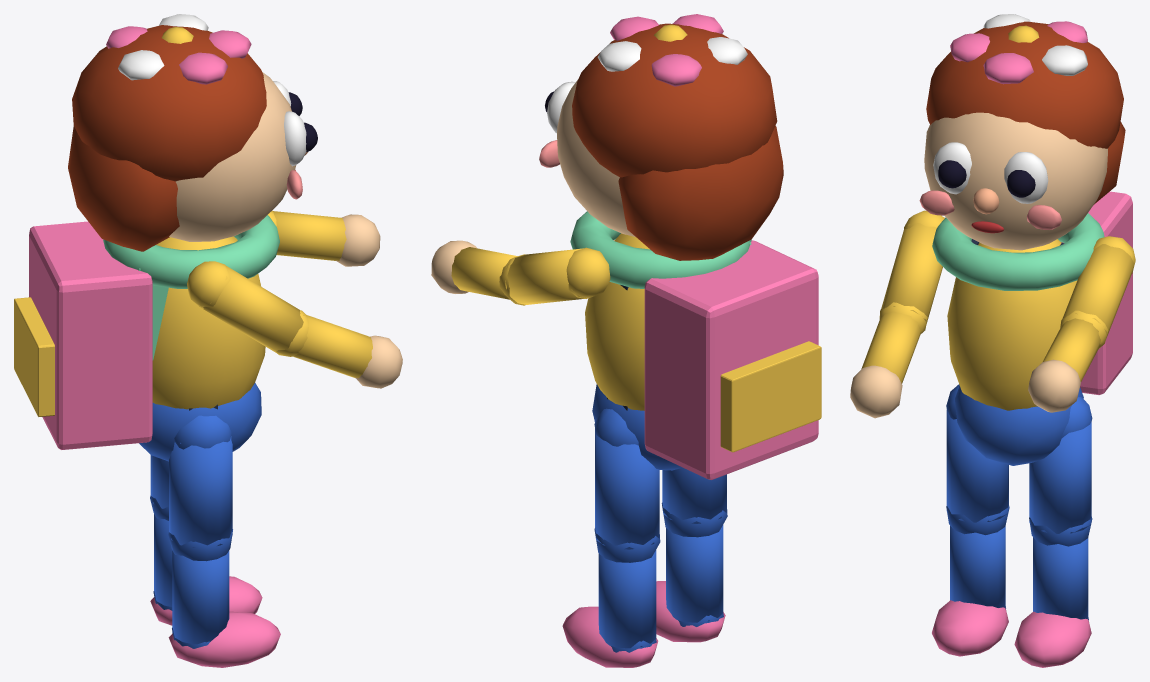
The model's file is hrdina_5_radost.glb.
3 views of the same model, side by side, from view 1: azimuth 30°, elevation 25°; view 2: azimuth 150°, elevation 25°; view 3: azimuth 270°, elevation 25° (orthographic). The views are drawn at different scales.
Visible parts, largest first — view 1: Cube.001, Sphere.011, Sphere, Sphere.002, Sphere.012, Cylinder.004, Torus, Cylinder.005, Cylinder, Cube.002, Sphere.031, Sphere.001 (+16 smaller); view 2: Cube.001, Sphere.011, Sphere.012, Cube.002, Sphere, Cylinder.006, Cylinder.007, Cylinder.005, Torus, Sphere.002, Cylinder.002, Cylinder.004 (+15 smaller); view 3: Sphere.002, Sphere.011, Sphere, Torus, Sphere.001, Cylinder.006, Cylinder.004, Cube.001, Cylinder.005, Cylinder.007, Cylinder, Cylinder.002 (+25 smaller).
Boxes of the visible parts, x1,y1,x2,y2 form: Cube.001: (29, 221, 152, 449); Sphere.011: (72, 25, 266, 181); Sphere: (152, 236, 265, 409); Sphere.002: (169, 72, 296, 241); Sphere.012: (68, 126, 179, 251); Cylinder.004: (169, 436, 232, 547); Torus: (103, 215, 279, 288); Cylinder.005: (172, 550, 229, 644); Cylinder: (199, 266, 303, 353); Cube.002: (14, 297, 54, 416); Sphere.031: (168, 611, 280, 667); Sphere.001: (139, 383, 261, 461); Cube.001: (644, 240, 818, 479); Sphere.011: (572, 23, 777, 177); Sphere.012: (618, 126, 783, 260); Cube.002: (720, 341, 821, 452); Sphere: (585, 233, 649, 410); Cylinder.006: (595, 429, 659, 549); Cylinder.007: (598, 550, 656, 648); Cylinder.005: (666, 525, 723, 622); Torus: (570, 211, 751, 288); Sphere.002: (557, 80, 635, 236); Cylinder.002: (505, 248, 585, 304); Cylinder.004: (662, 467, 726, 523); Sphere.002: (924, 112, 1107, 250); Sphere.011: (926, 21, 1123, 148); Sphere: (947, 239, 1077, 410); Torus: (932, 213, 1104, 290); Sphere.001: (955, 386, 1083, 465); Cylinder.006: (1029, 422, 1091, 533); Cylinder.004: (946, 410, 1008, 522); Cube.001: (1061, 191, 1132, 394); Cylinder.005: (950, 526, 1005, 607); Cylinder.007: (1033, 537, 1088, 619); Cylinder: (881, 223, 942, 323); Cylinder.002: (1062, 244, 1133, 338).
Size of the model in its own units: 0.7746 by 1.28 by 0.5435.
